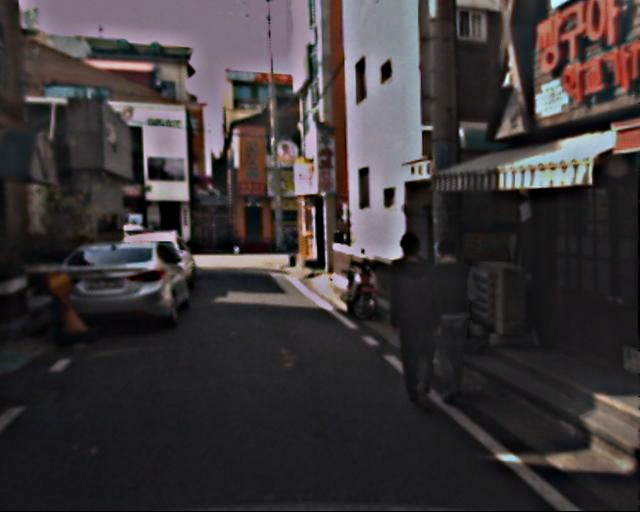person: (379, 236, 449, 407), (414, 234, 482, 400)
